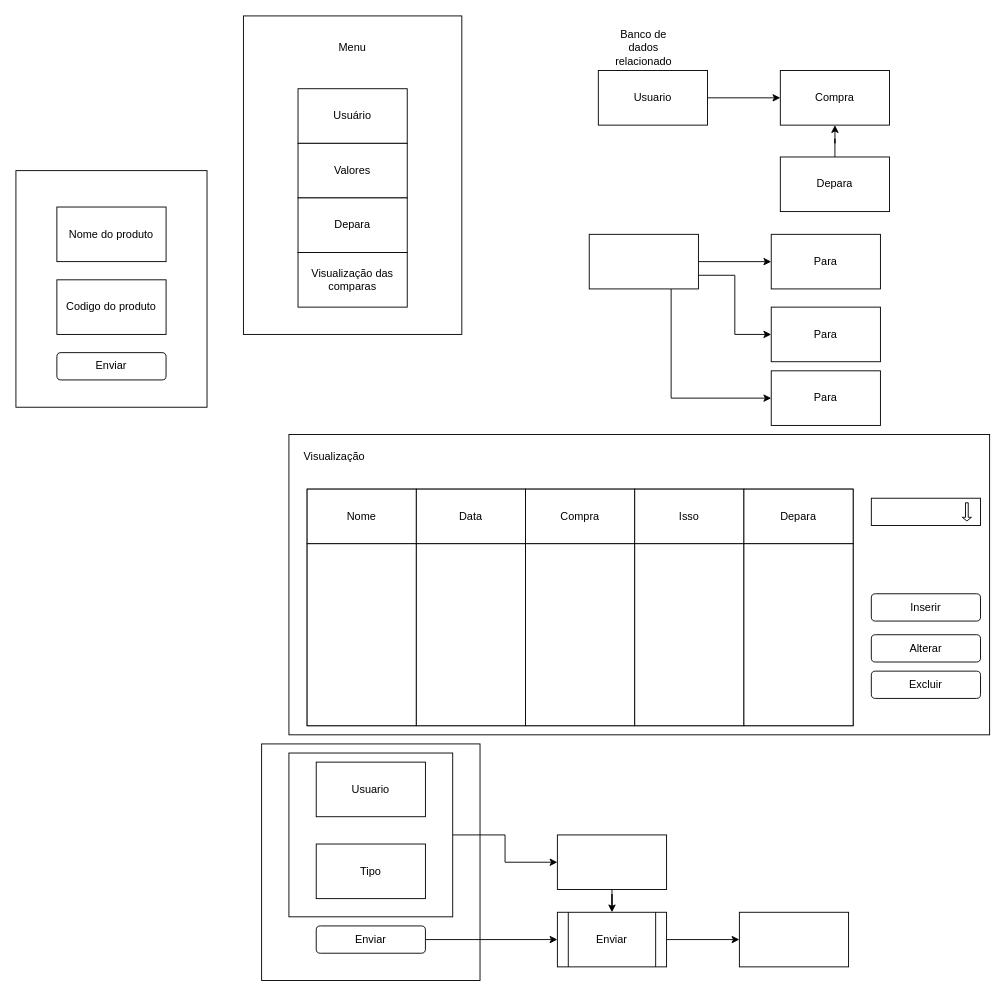
Image size: 1006x996. Some labels were removed from this diagram. The shapes that lost their labels are listed below. From the top down, each one's centre as x and y in pixels, then its label:
At point 643,261: "De".
At point 925,511: "Filtro".
At point 611,862: "Collection".
At point 793,939: "Banco de dados".
